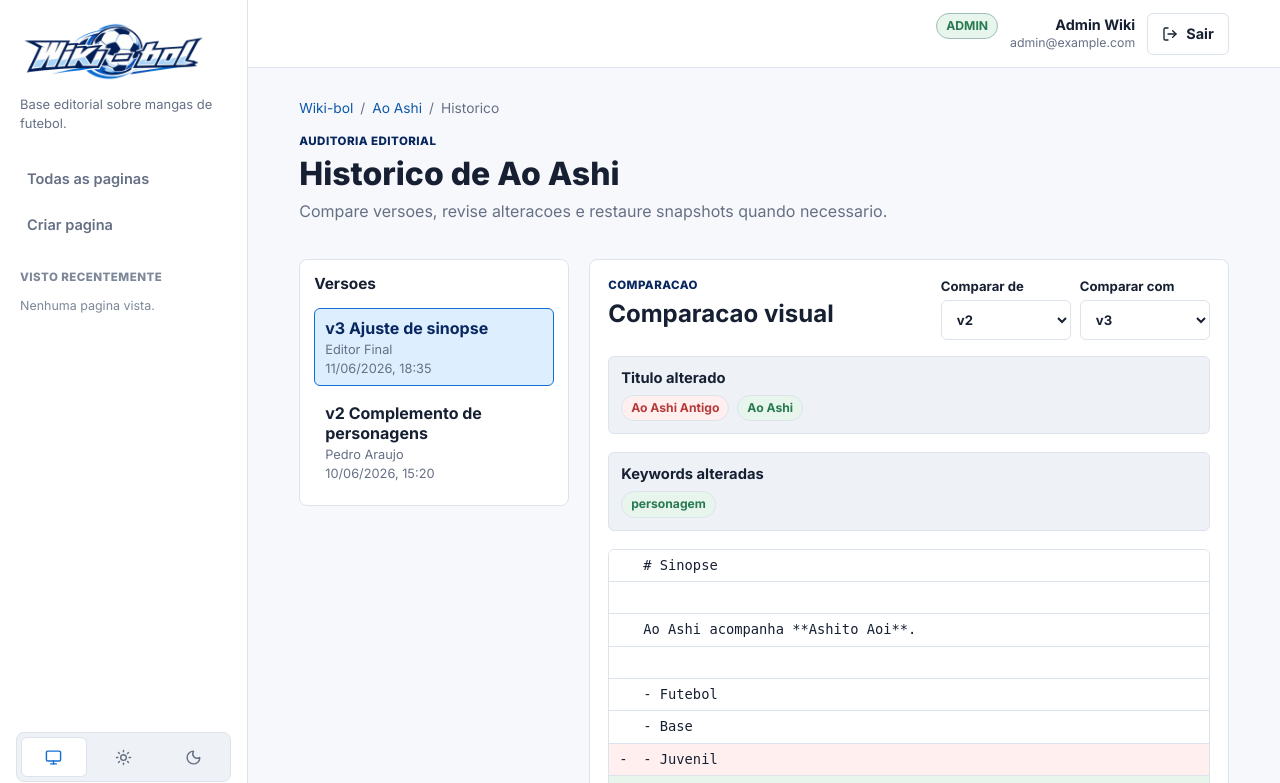
Test: Wiki-bol frontend › keeps the history page visible when restore is rejected
The width and height of the screenshot is (1280, 783).
Expected: the heading "Historico de Ao Ashi" is shown, [299,154,620,193]
Click the button "v2 Complemento de personagens Pedro Araujo 10/06/2026, 15:20".
click(434, 442)  # box [314,393,554,491]
(page scrolled)
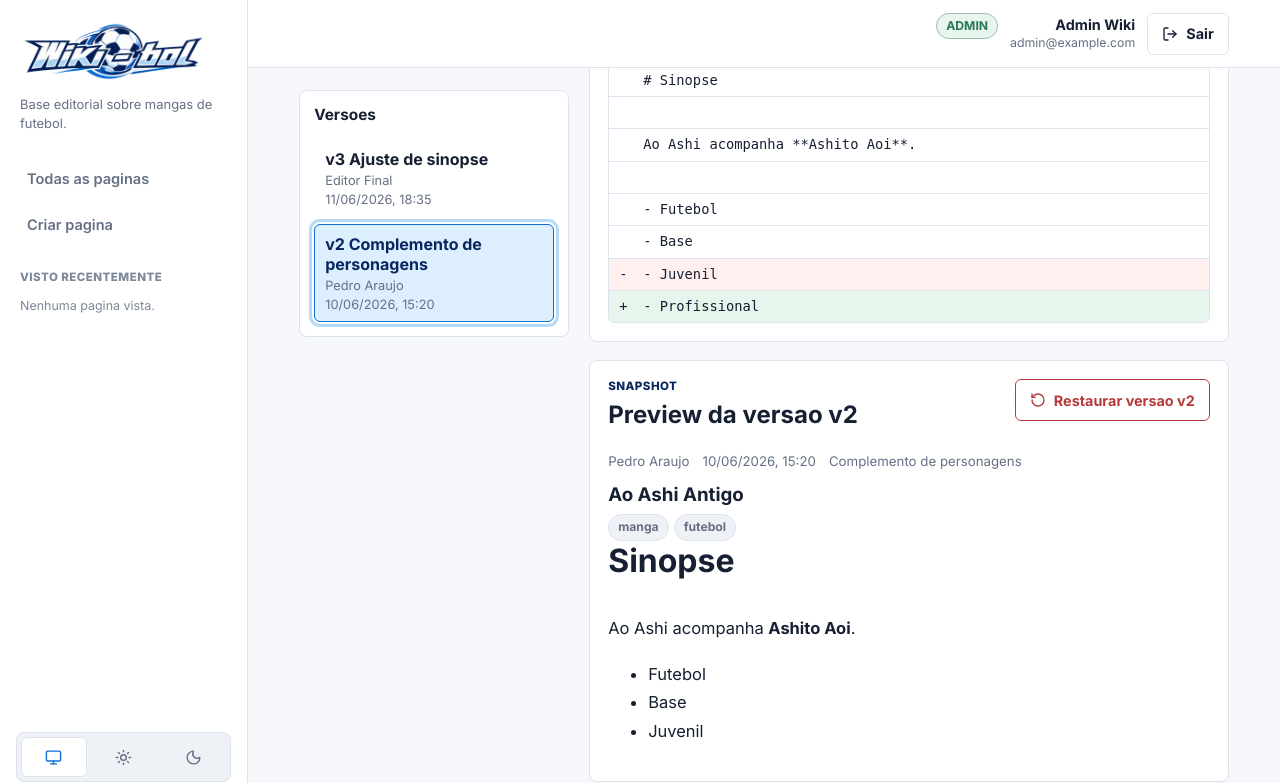
Click the button "Restaurar versao v2".
click(1112, 400)  # box [1015,379,1210,421]
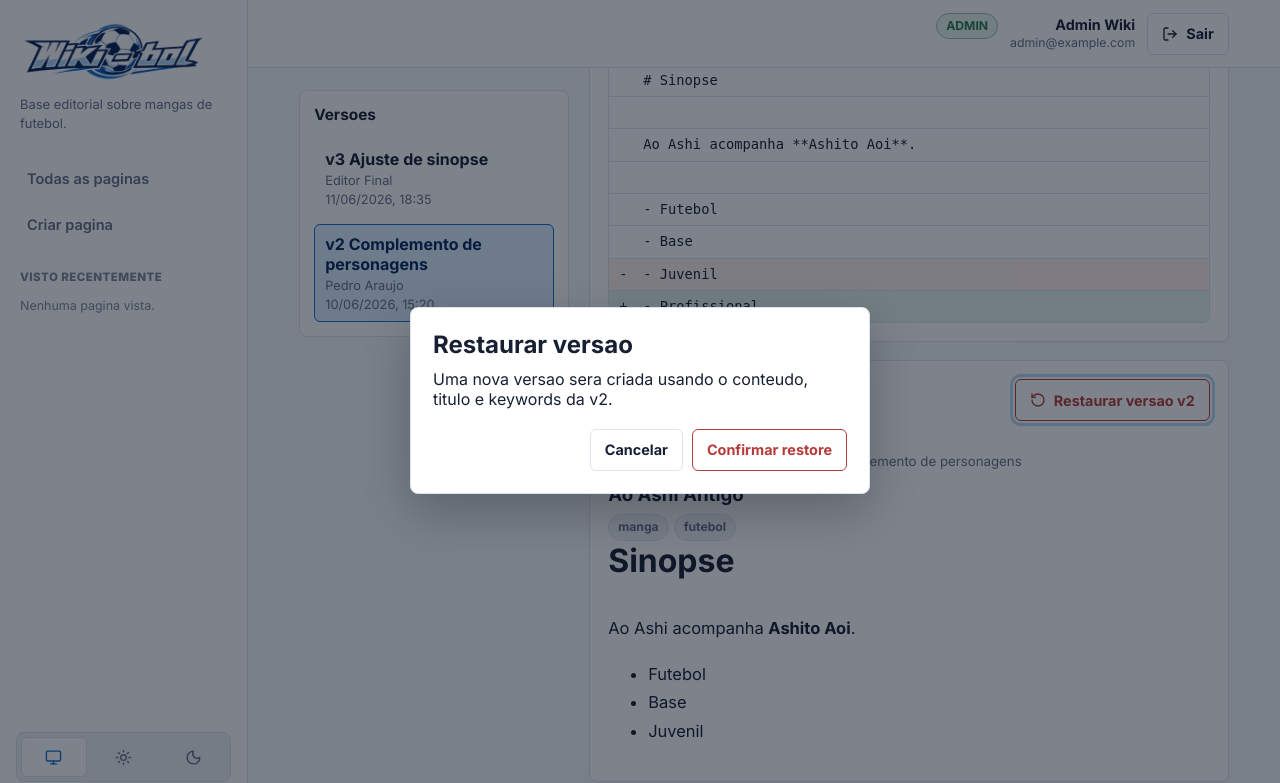
Click the button "Confirmar restore".
click(769, 450)  # box [692,428,847,470]
(page scrolled)
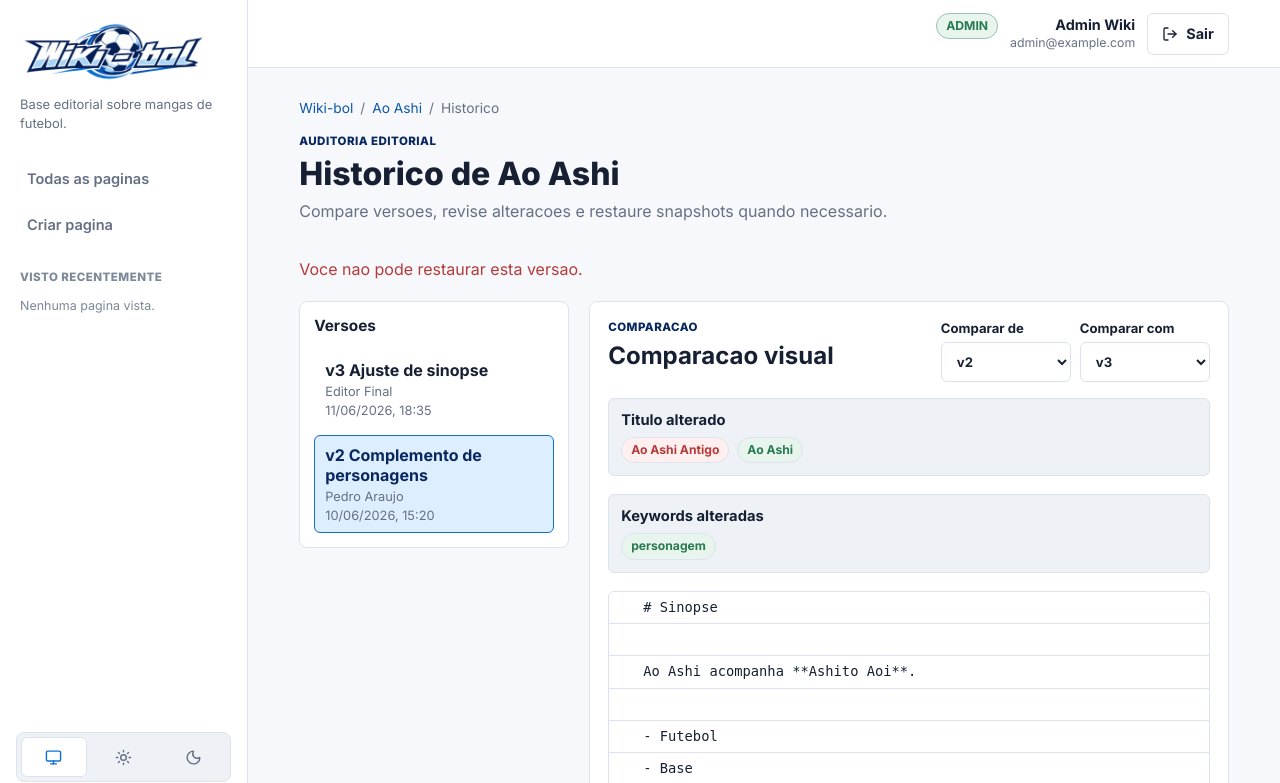
Expected: the heading "Historico de Ao Ashi" is shown, [299,154,620,193]
Now the text "Voce nao pode restaurar esta versao." is shown, box [299,259,583,279]
